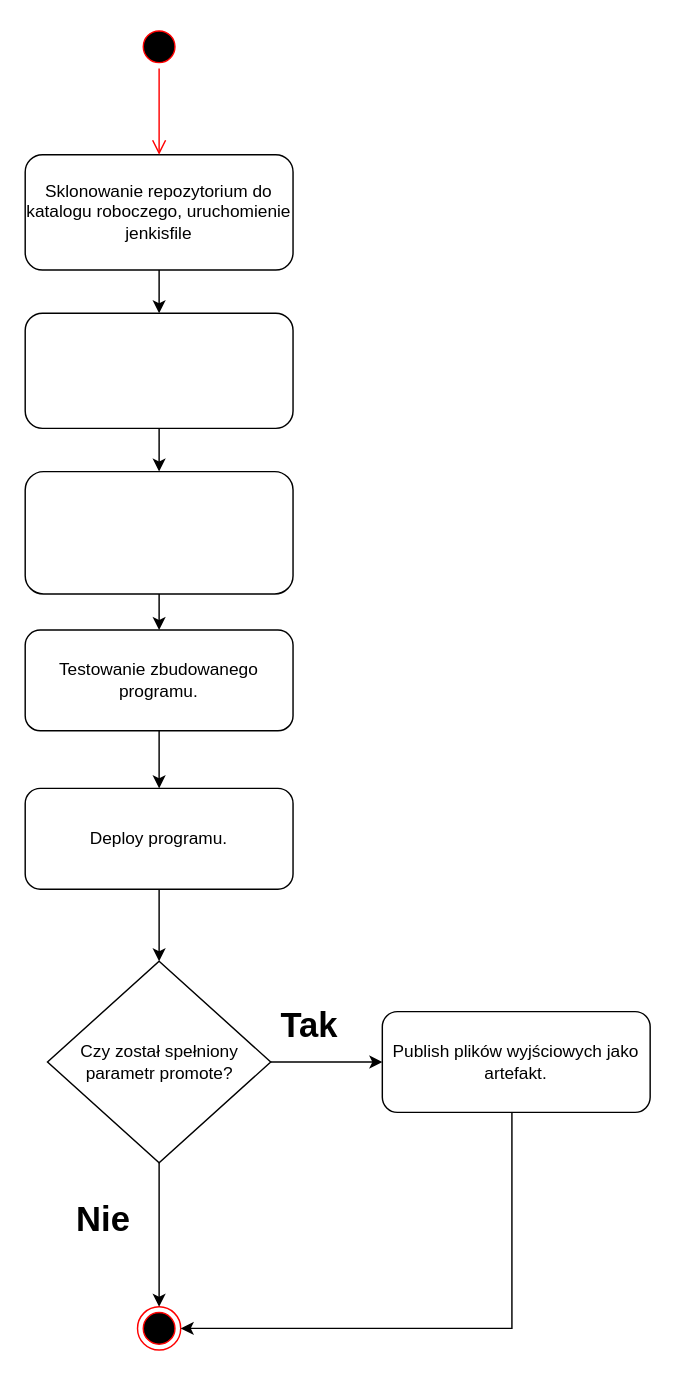
Image size: 675x1375. Some labels were removed from this diagram. Here are the shapes that lost their labels. From the top down, the box of each, then its label:
(24, 312, 293, 428): Sklonowanie repozytorium z programem, skopiowanie go na wolumin
(24, 470, 293, 594): Build programu na woluminie wejściowym, skopiowanie go na wolumin wyjściowy.
